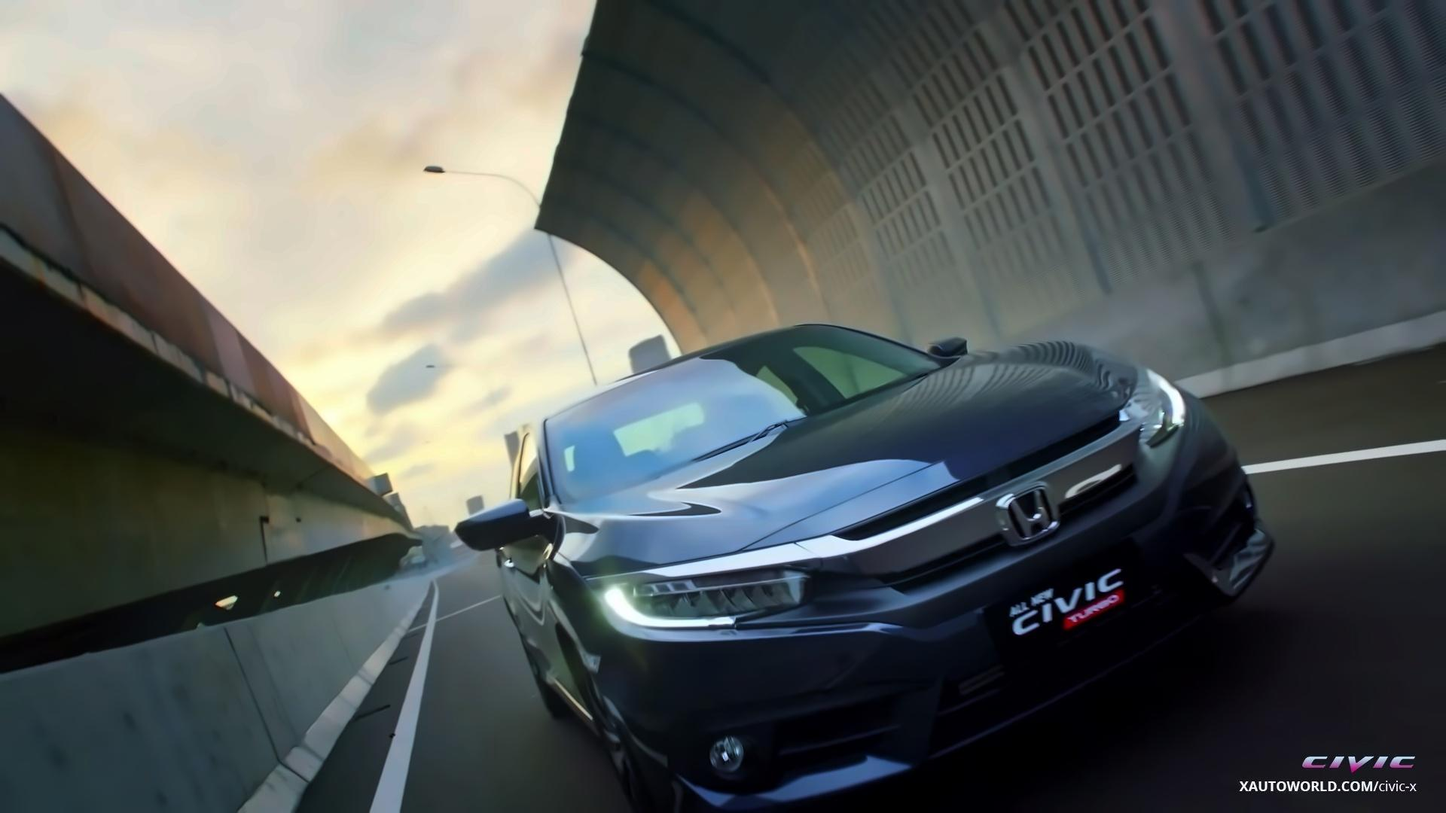Car hood: (531, 331, 1139, 564)
Front bumper: (590, 373, 1289, 813)
Headlight - -L-: (1110, 361, 1189, 447)
Headlight - -R-: (575, 531, 829, 635)
Side bumper - -R-: (525, 629, 601, 764)
Side mirror - -L-: (926, 335, 980, 368)
Side mirror - -R-: (448, 498, 549, 561)
